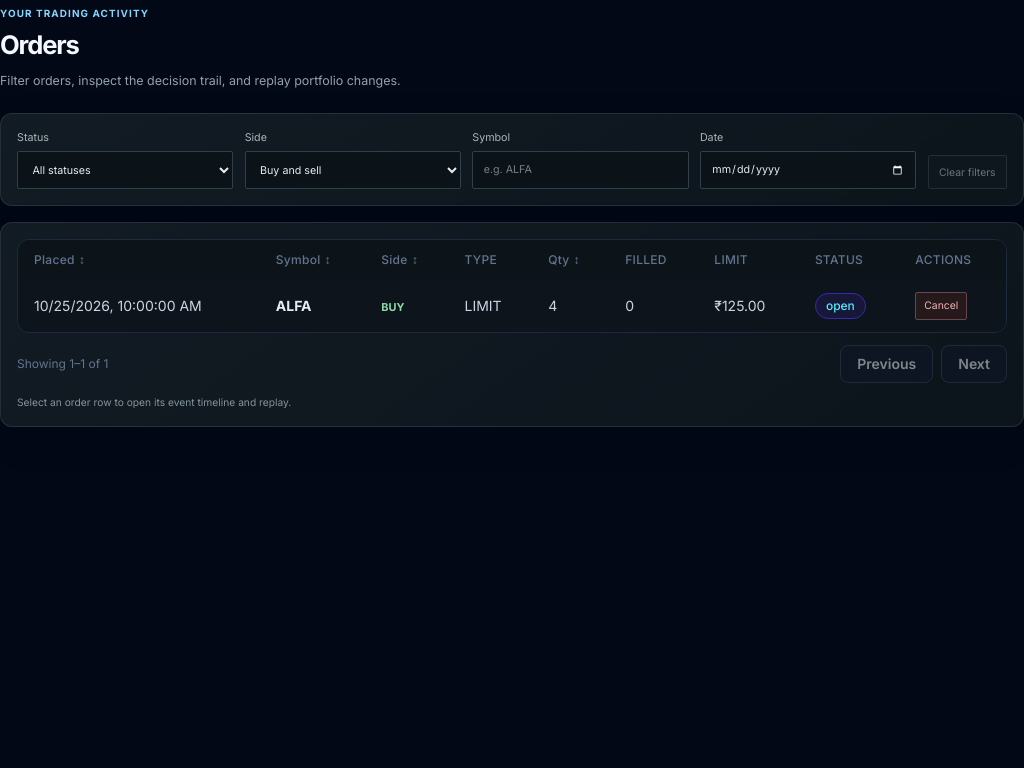
Scenario: orders workspace › opens timeline and steps through cash and holdings replay
This screenshot has width=1024, height=768.
Step 1. Click the row "ALFA" → (118, 306), box [18, 280, 1006, 332]
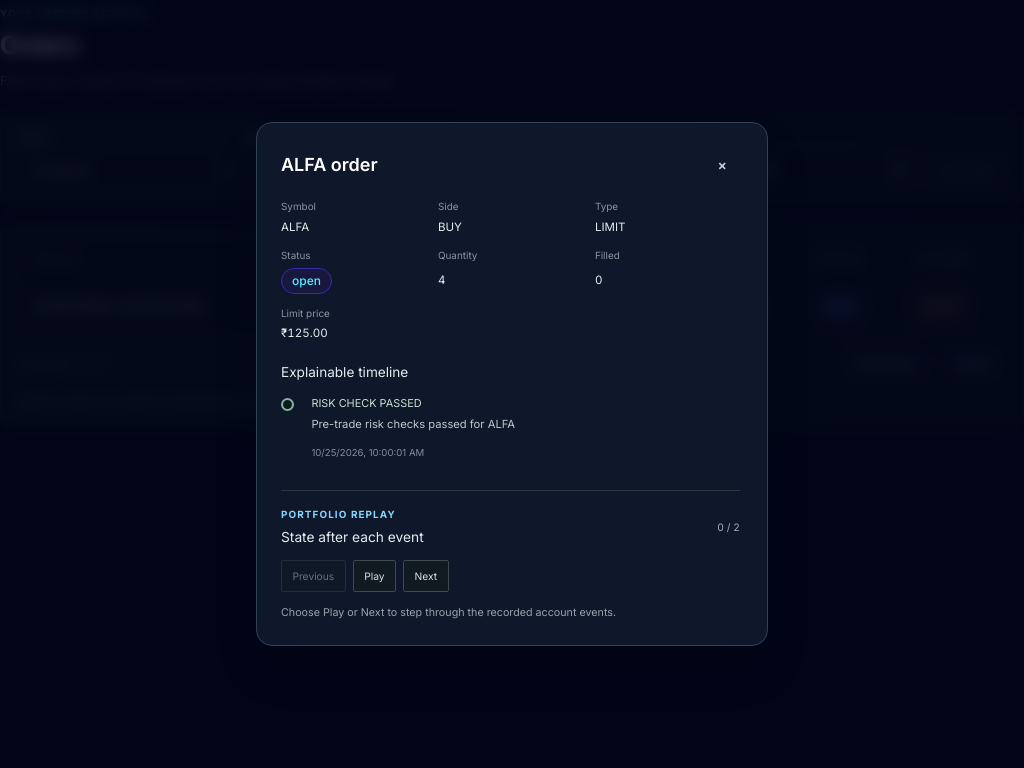
Now the dialog "ALFA order" is shown, box [256, 122, 768, 646]
Now the text "Pre-trade risk checks passed for ALFA" is shown, box [311, 417, 515, 431]
Step 2. Click the button with aria-label "Next replay step" → (426, 576), box [403, 560, 448, 592]
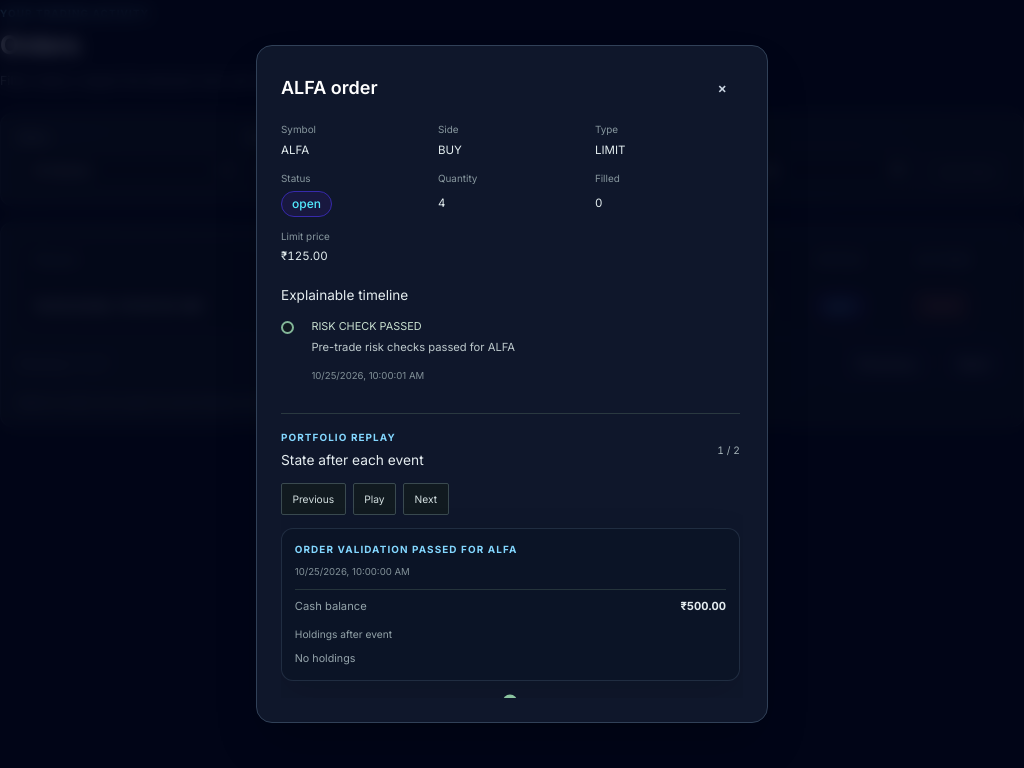
Now the text "Order validation passed for ALFA" is shown, box [295, 543, 517, 555]
Now the text "₹500.00" is shown, box [680, 598, 726, 615]
Step 3. Click the button with aria-label "Next replay step" → (426, 499), box [403, 483, 448, 515]
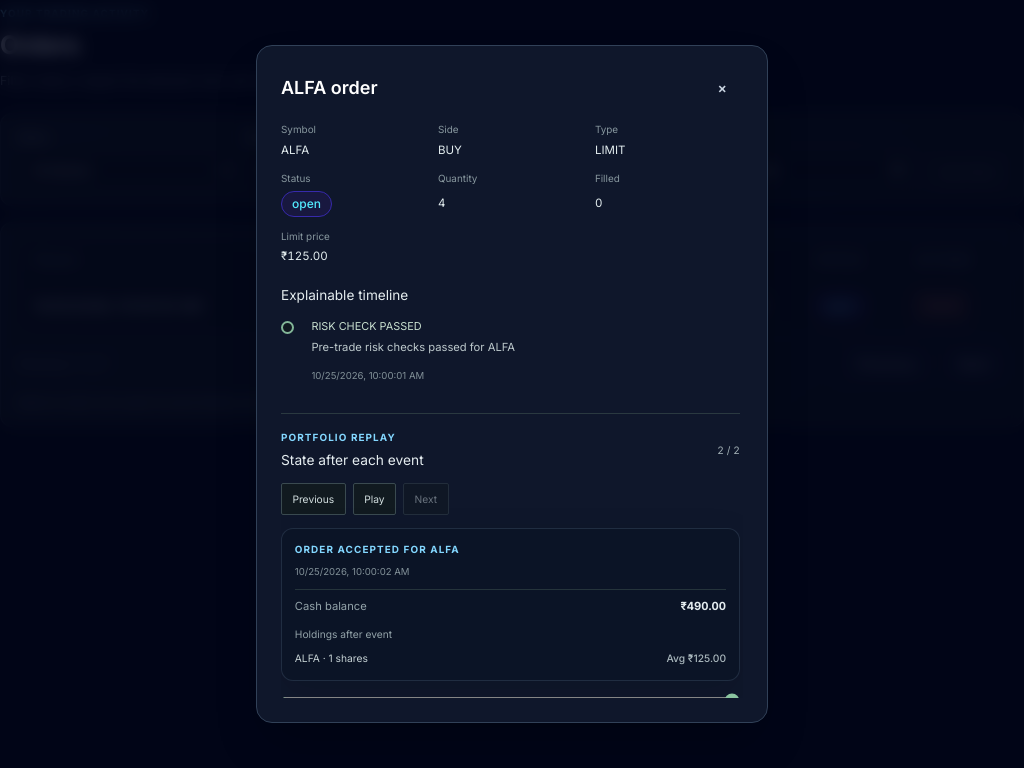
Now the text "Order accepted for ALFA" is shown, box [295, 543, 460, 555]
Now the text "₹490.00" is shown, box [680, 598, 726, 615]
Now the text "ALFA · 1 shares" is shown, box [295, 651, 368, 667]
